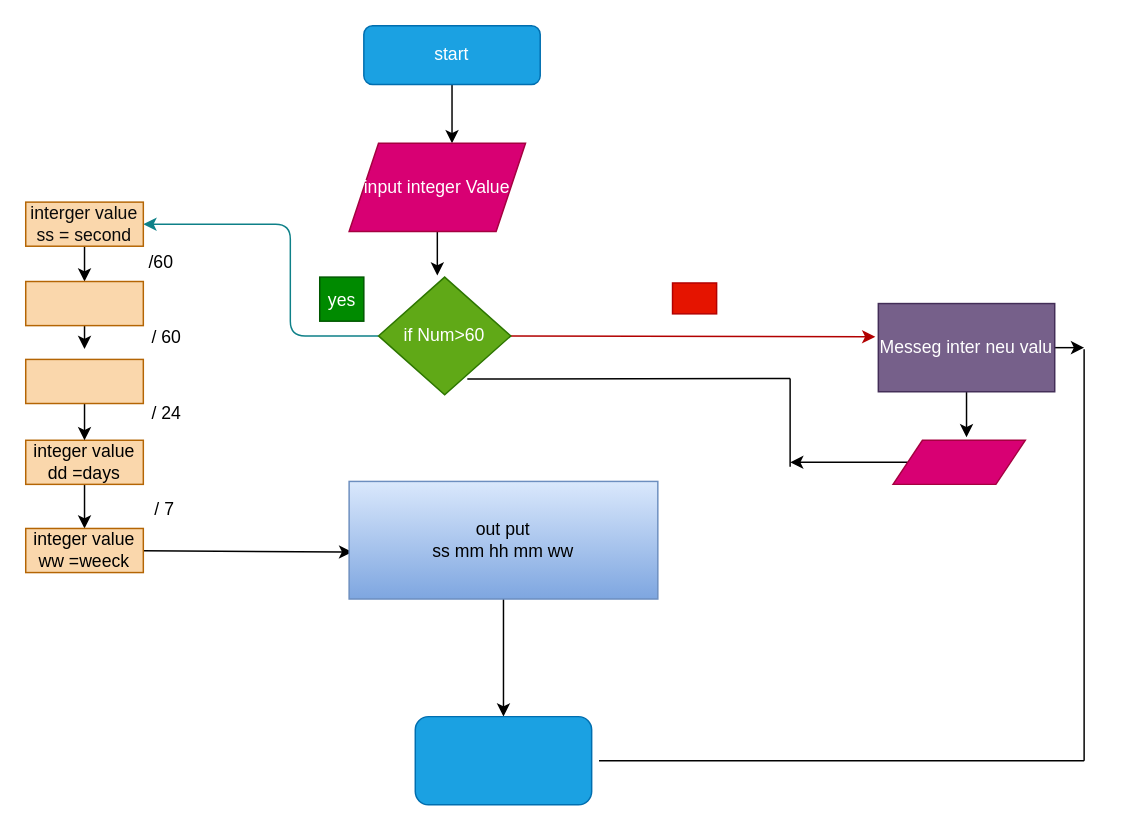
Some shapes in this 1122 by 831 pixel diagram are drawn without their labels. Here are the shapes that lost their labels. From the top down, the centre of each, then its label:
At (83,303): "integer value mm=minuts".
At (694,298): "no".
At (83,381): "integer value hh=hour".
At (958,461): "neu Num".
At (503,760): "End".
